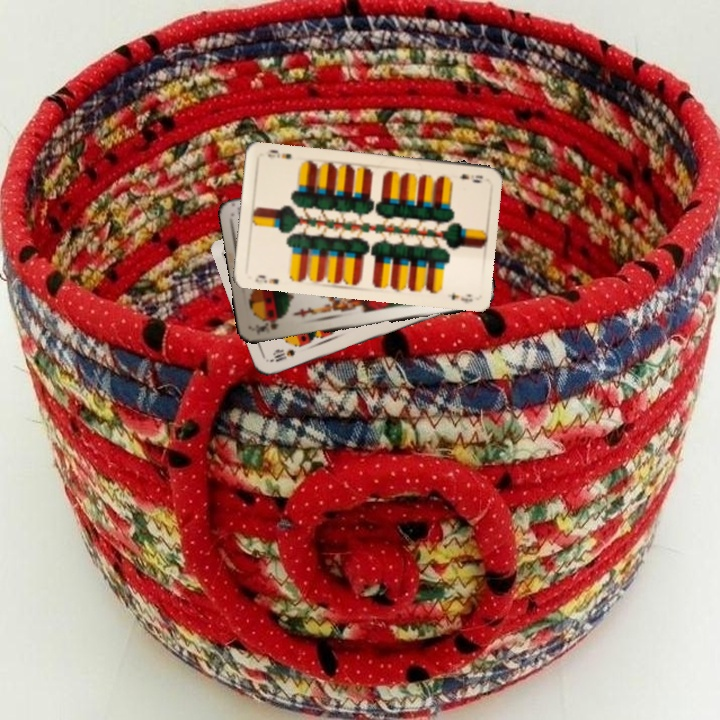E9: (251, 271, 281, 287), (455, 170, 485, 185)
S10: (266, 345, 298, 365)
SK: (252, 317, 281, 338)
